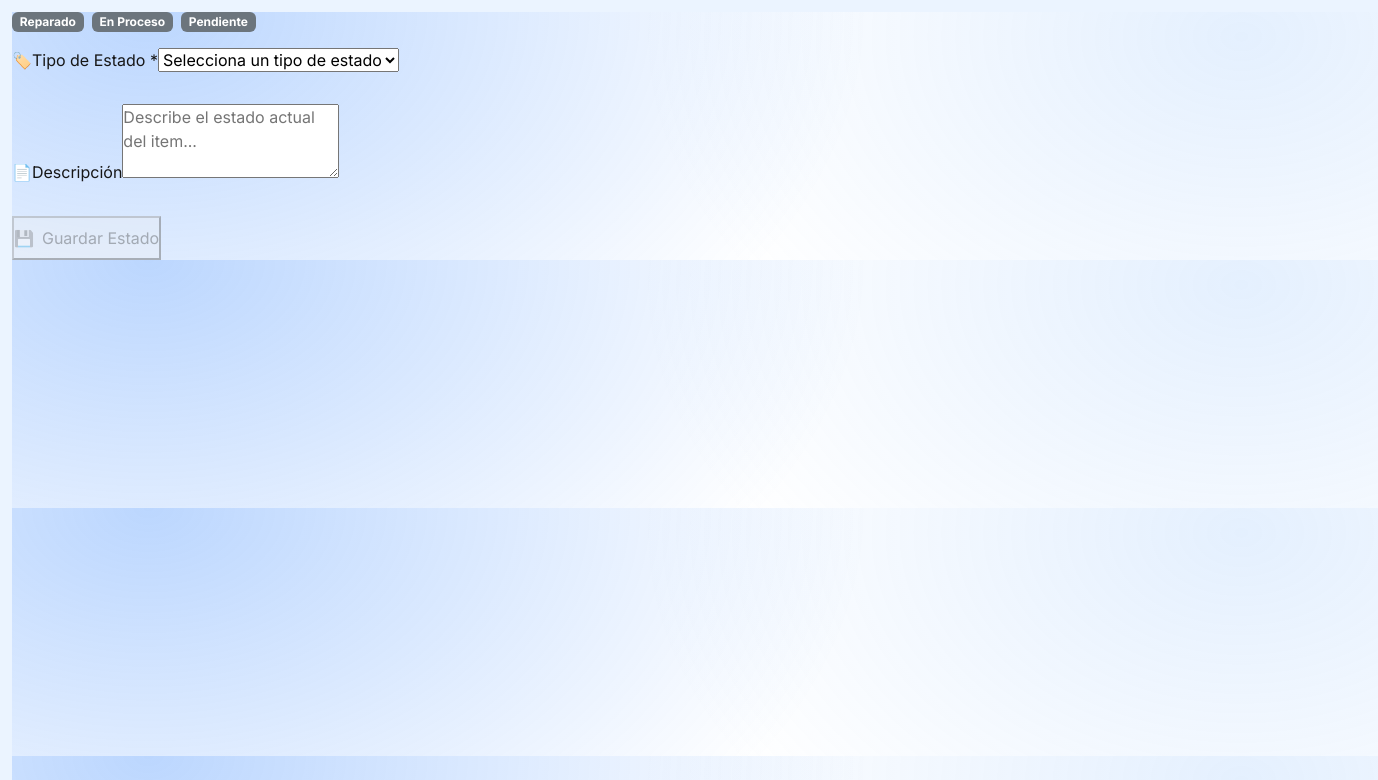
Test: AddStateForm › Form rendering › shows status type description when selected
The width and height of the screenshot is (1378, 780).
Select "Reparado" in the dropdown with test id "form-select" at (278, 60), box 158,48 -> 399,72
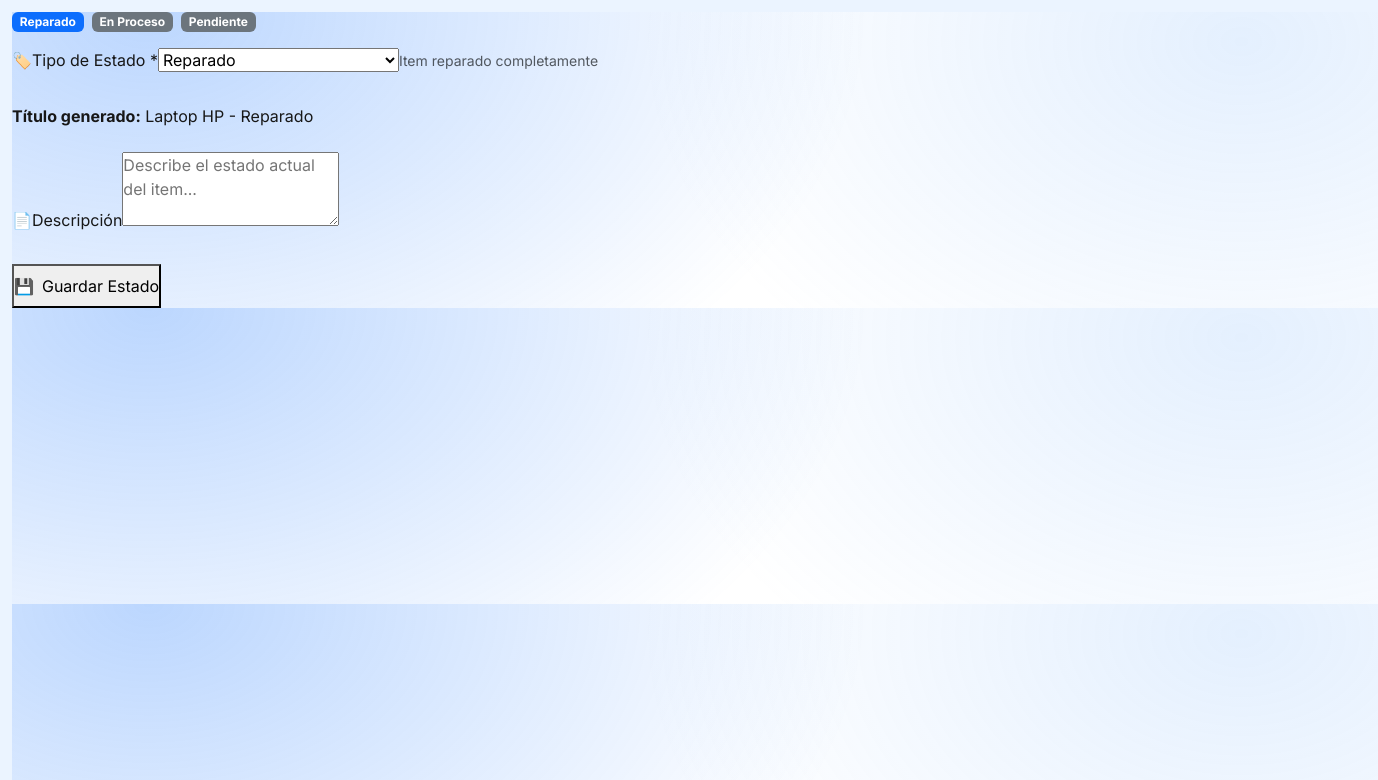
expect the text "Item reparado completamente" is shown: met, box 399,52 -> 598,69
